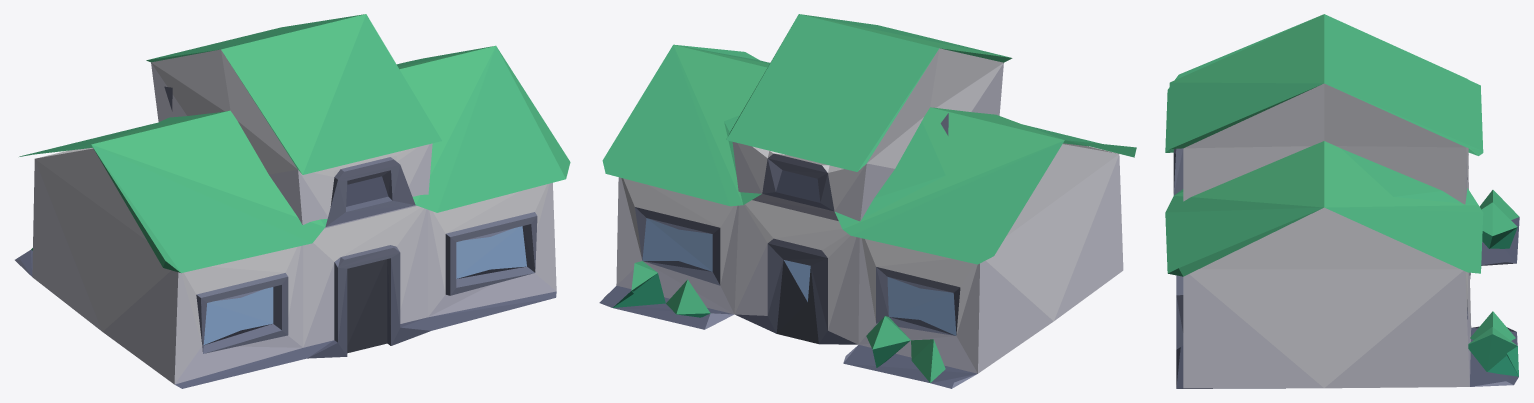
File: building-type-a_vita.obj
3 views of the same model, side by side, from view 1: azimuth 30°, elevation 25°; view 2: azimuth 150°, elevation 25°; view 3: azimuth 270°, elevation 25° (orthographic). The views are drawn at different scales.
Size of the model in its own units: 1.3 by 0.8112 by 1.01.
1 material, 1 textured.
